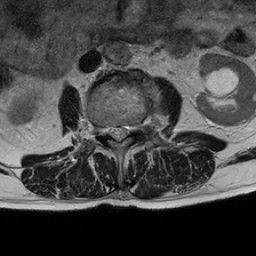CCS_stenosis: (115, 118, 122, 148)
LFS_normal: (130, 114, 139, 138)
LLS_normal: (122, 118, 130, 144)
RFS_normal: (98, 117, 106, 141)
RLS_normal: (106, 118, 115, 142)
